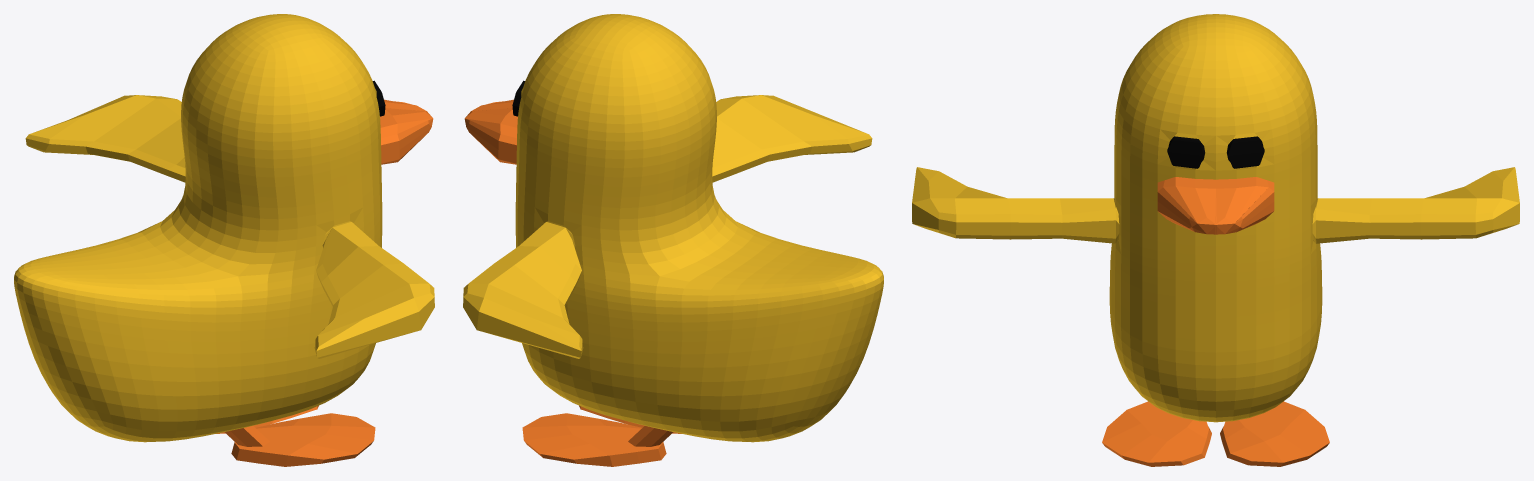
3 renders of one model, left to right at view 1: azimuth 30°, elevation 25°; view 2: azimuth 150°, elevation 25°; view 3: azimuth 270°, elevation 25°, orthographic. The views are drawn at different scales.
Visible parts, largest first — view 1: Cube; view 2: Cube; view 3: Cube.
Part boxes in pixels (x1,y1,x2,y2): Cube: (14, 14, 434, 466); Cube: (463, 14, 883, 466); Cube: (912, 14, 1519, 466).
Bounding box in the file's own units: 0.5511 × 0.5198 × 0.6863.
